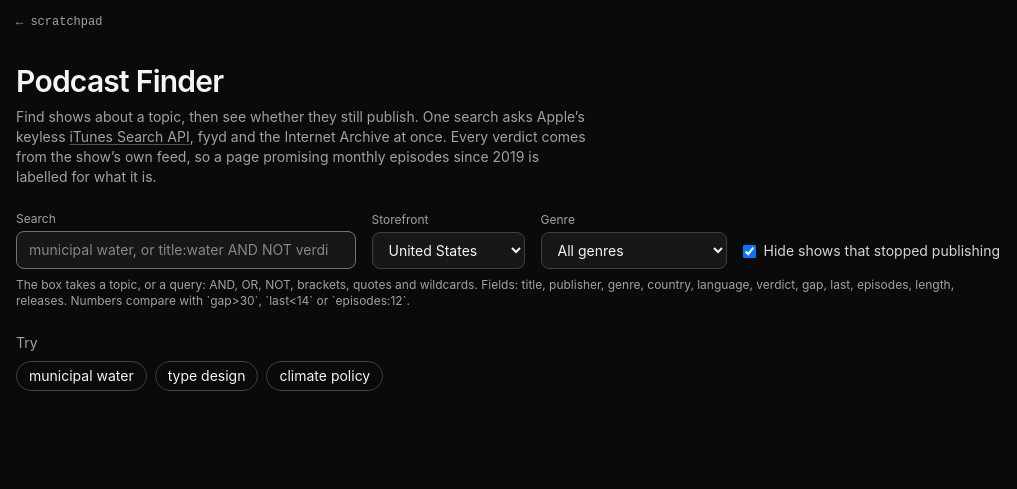
PodcastFinderPage › says when a show has no feed to check
Step 1. Type "drains" into the search field labelled "Search" → (186, 250), box left=16, top=231, right=356, bottom=269
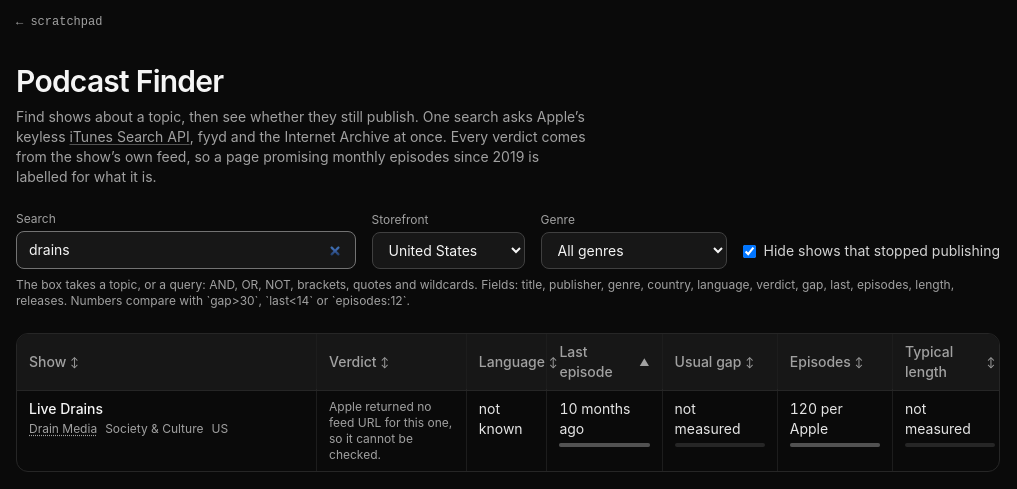
expect the text "Apple returned no feed URL" is shown: met, box left=329, top=399, right=452, bottom=462
